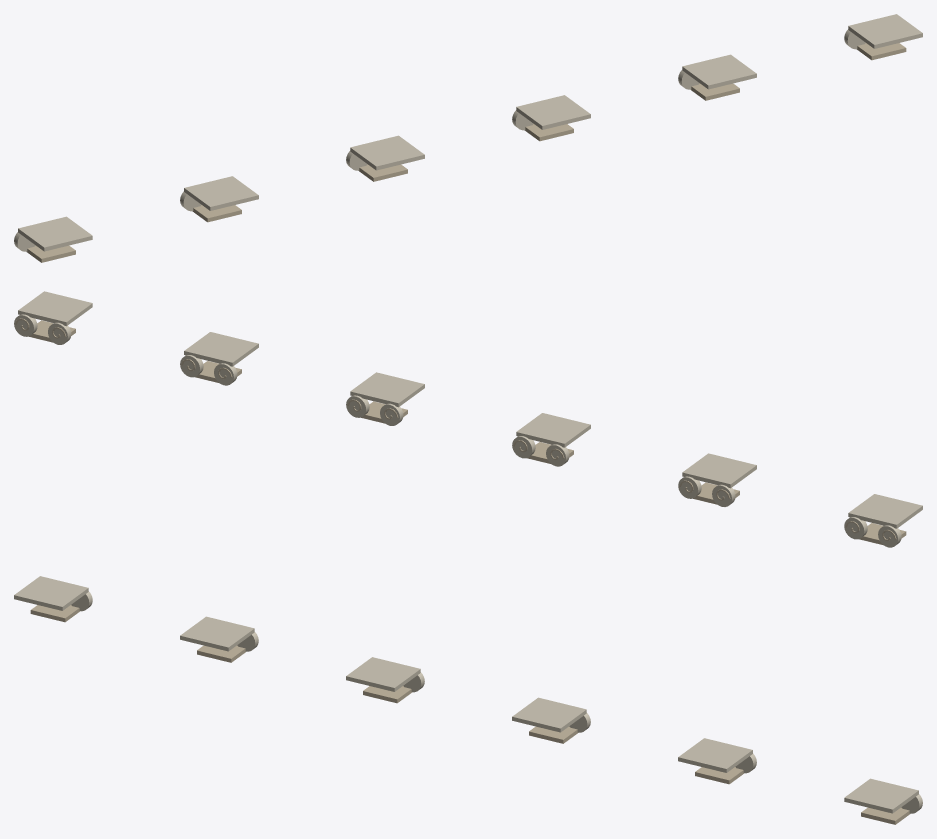
File: johnson-north-capitals-2026-11-10.glb
3 views of the same model, one above another, from view 1: azimuth 30°, elevation 25°; view 2: azimuth 150°, elevation 25°; view 3: azimuth 330°, elevation 25° (orthographic).
Visible parts, largest first — view 1: exterior-detail-building; view 2: exterior-detail-building; view 3: exterior-detail-building.
Boxes of the visible parts, box(x1,y1,x2,y2) form: exterior-detail-building: box(14, 14, 922, 262); exterior-detail-building: box(14, 291, 922, 547); exterior-detail-building: box(14, 576, 922, 824).
Bounding box in the file's own units: 27.69 × 0.725 × 1.52.
